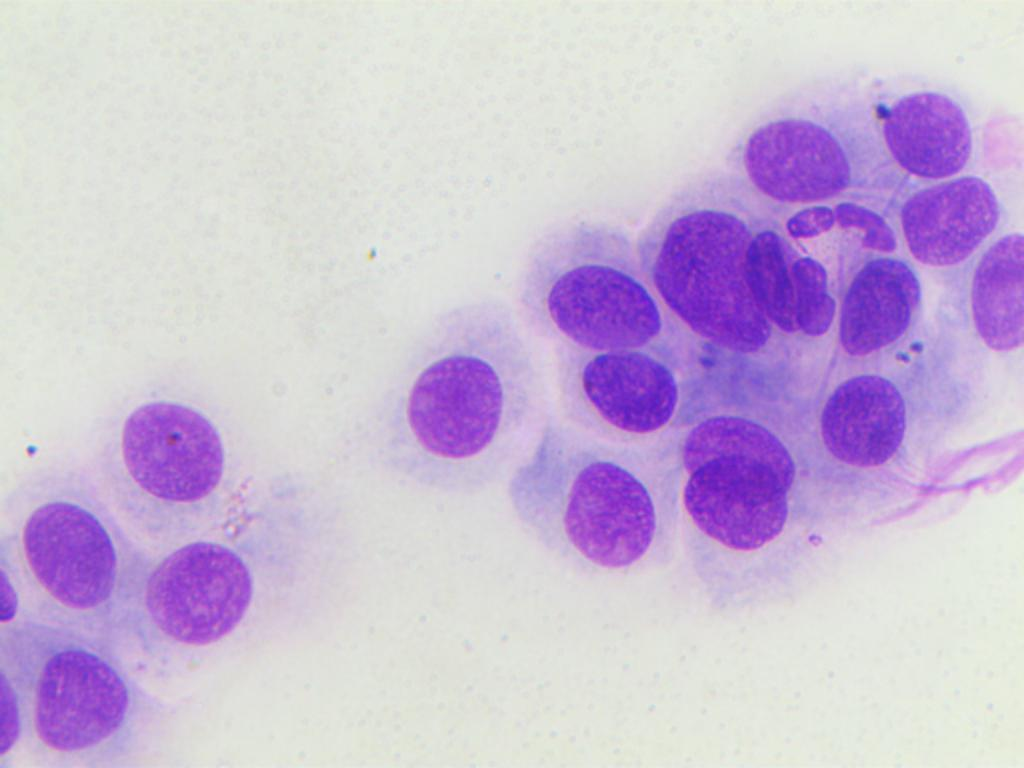epithelial: (361, 283, 532, 489), (139, 499, 331, 665), (500, 437, 685, 576), (672, 398, 805, 561), (7, 475, 138, 635), (654, 198, 782, 359), (107, 388, 251, 527), (728, 105, 858, 202), (21, 646, 133, 756), (810, 367, 915, 484), (856, 86, 984, 180), (534, 252, 658, 348), (556, 346, 685, 432), (887, 178, 1013, 263), (840, 259, 921, 363)
neutrophil: (771, 203, 900, 253)
